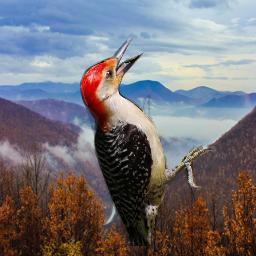Woodpecker: (80, 38, 217, 246)
